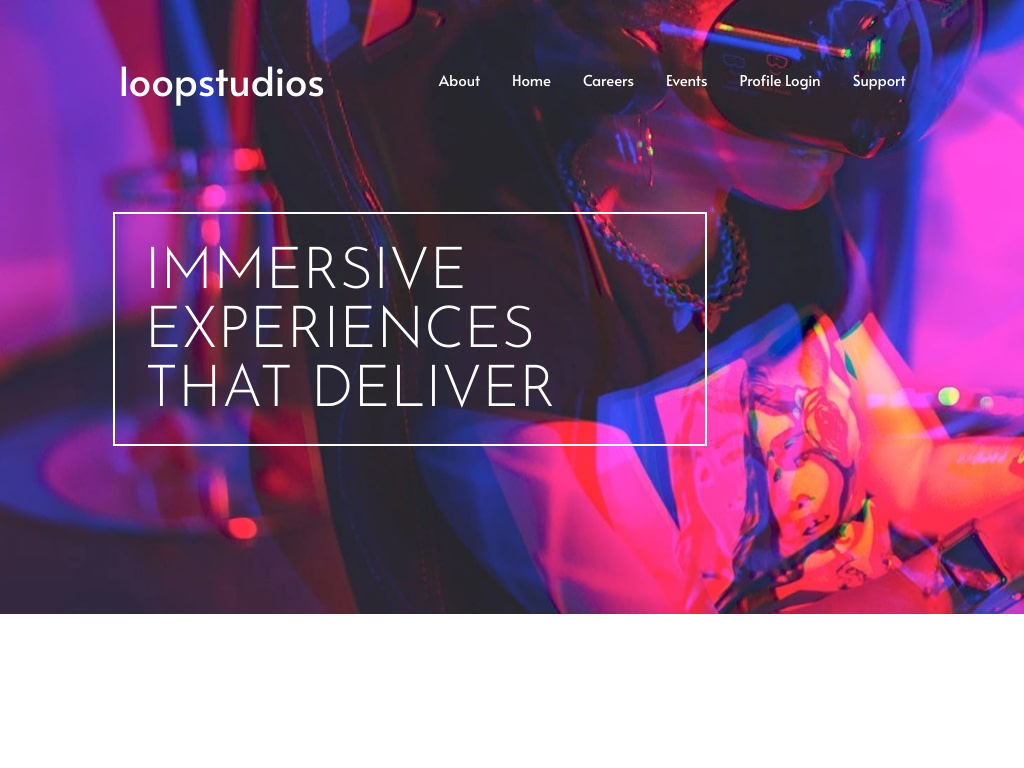
example to-do app › switching to about via actions
Click the text "Profile Login" at (781,80), box [740,69,821,90]
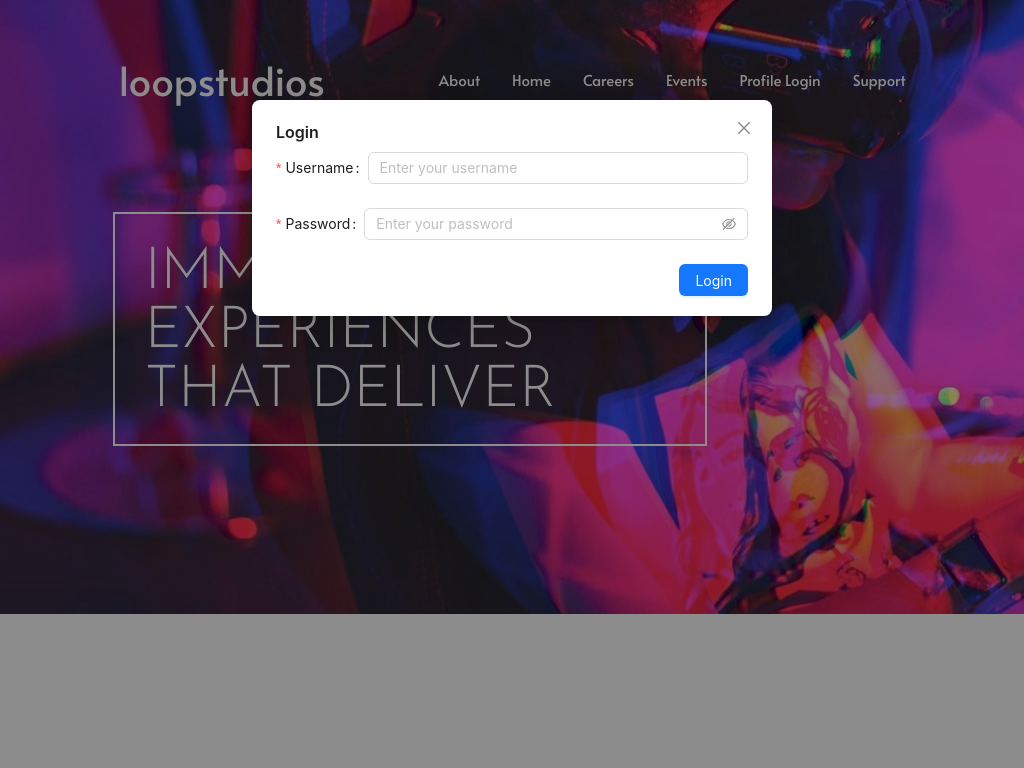
Type "nivedh" into the field with id "username" at (559,168), box [368,152,749,184]
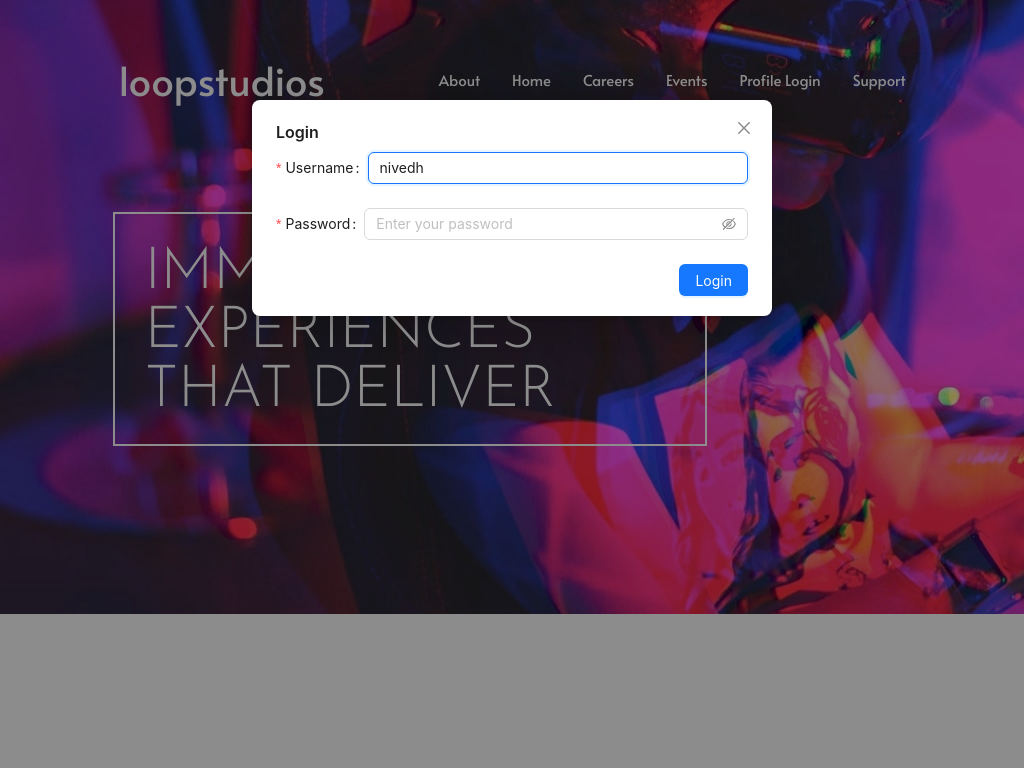
Type "nivedh" into the password field labelled "Password" at (547,224), box [376,213,718,235]
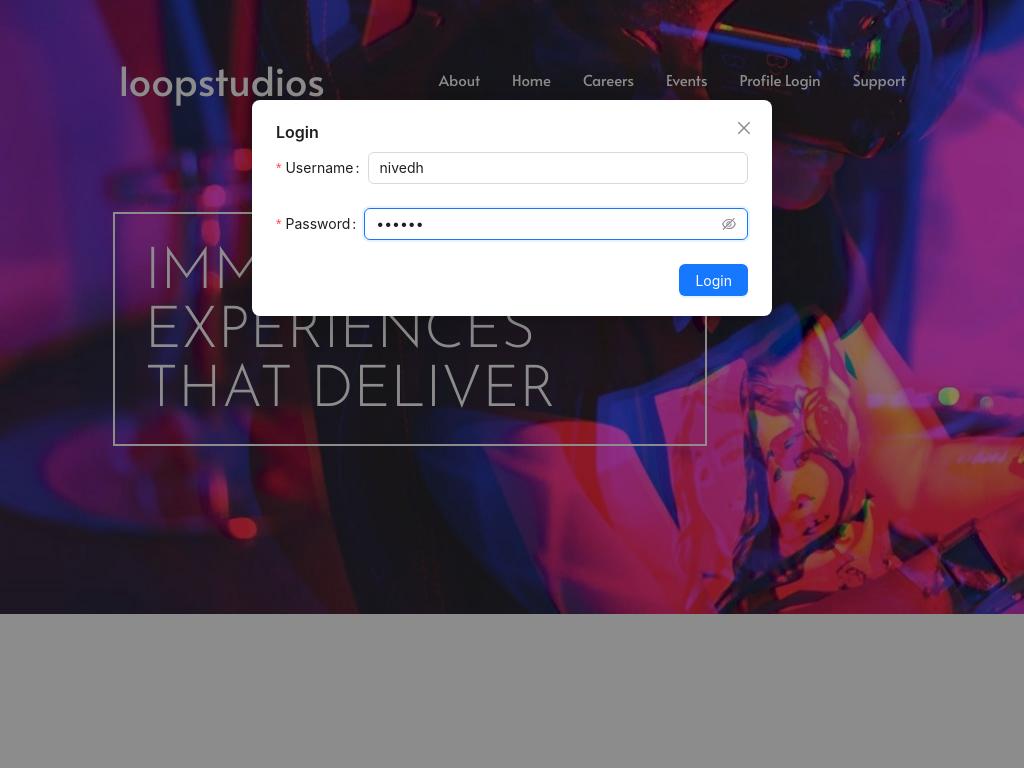
Click the button with id "login-button" at (714,280), box [679,264,748,296]
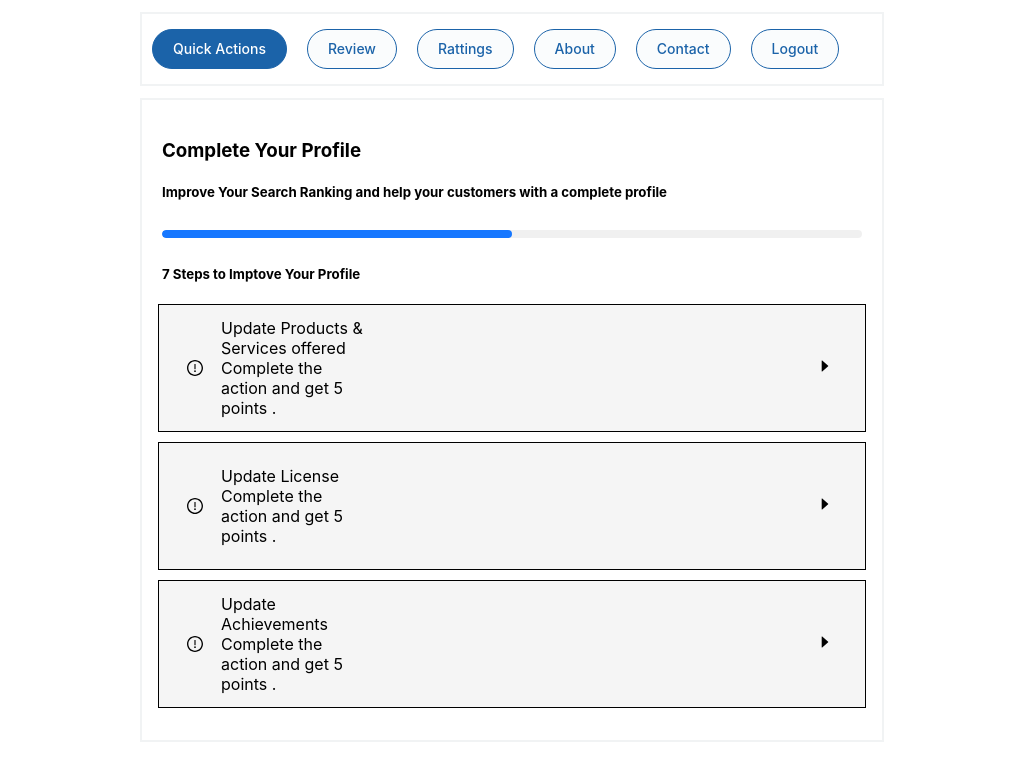
Click the picture with id "Route" at (825,366), box [817,358,833,374]
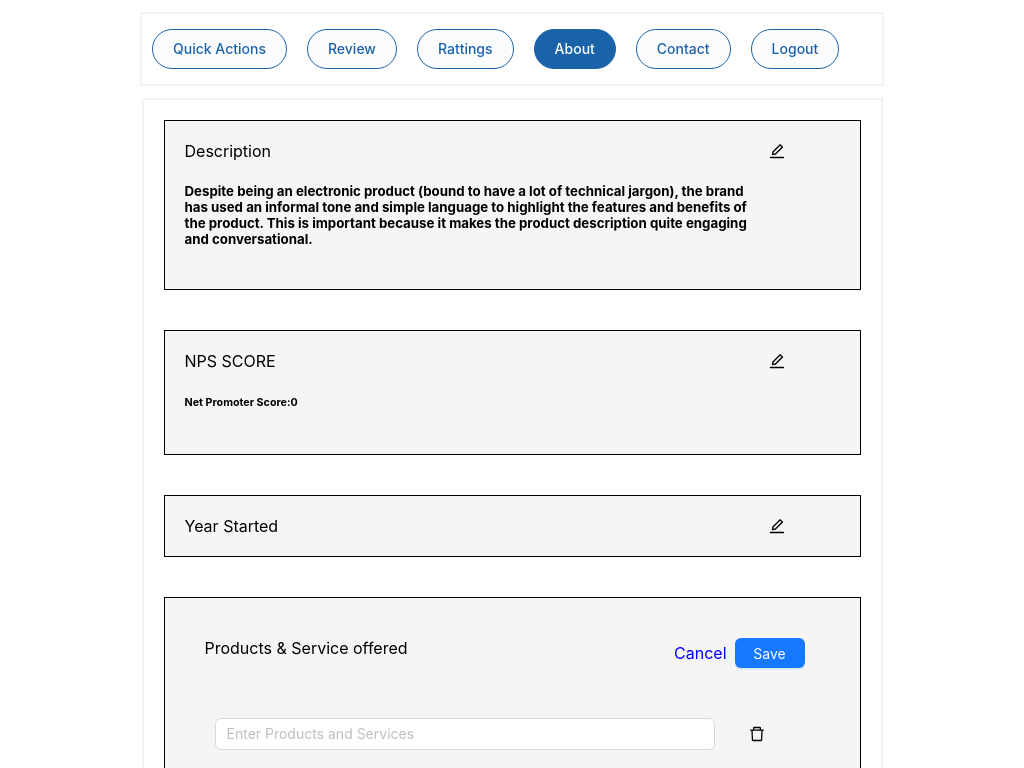
Result: the field with placeholder "Enter Products and Services" is shown at [214,718,714,750]
